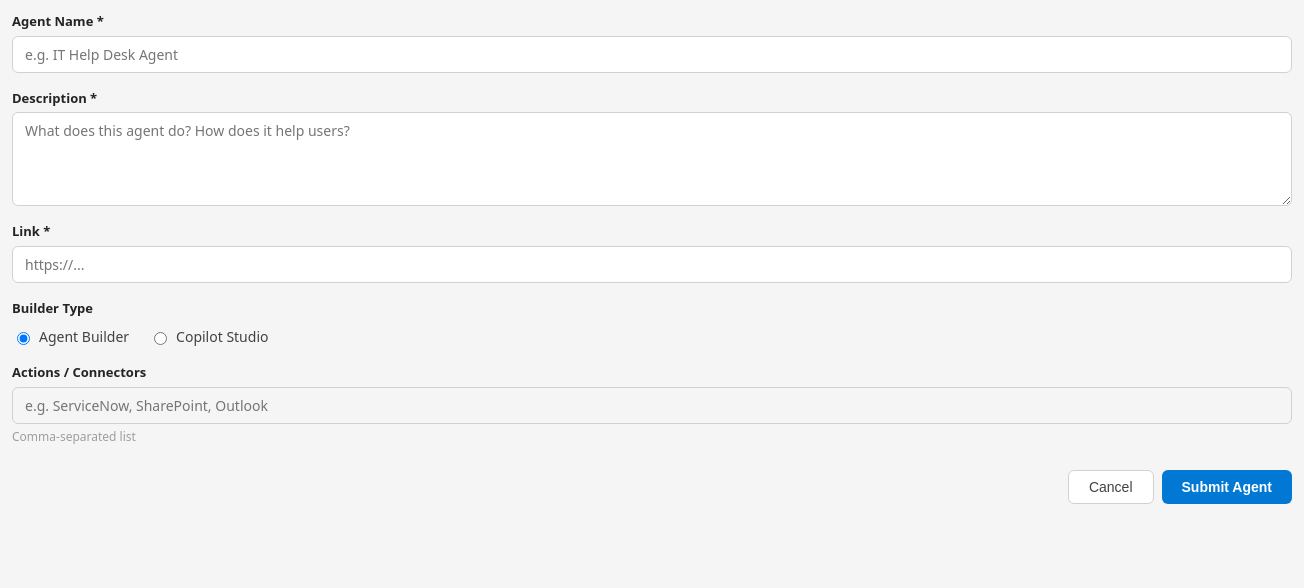
Test case: AgentForm › shows validation errors for empty required fields
This screenshot has width=1304, height=588.
Click the button "Submit Agent" at (1227, 486), box [1162,470,1292,504]
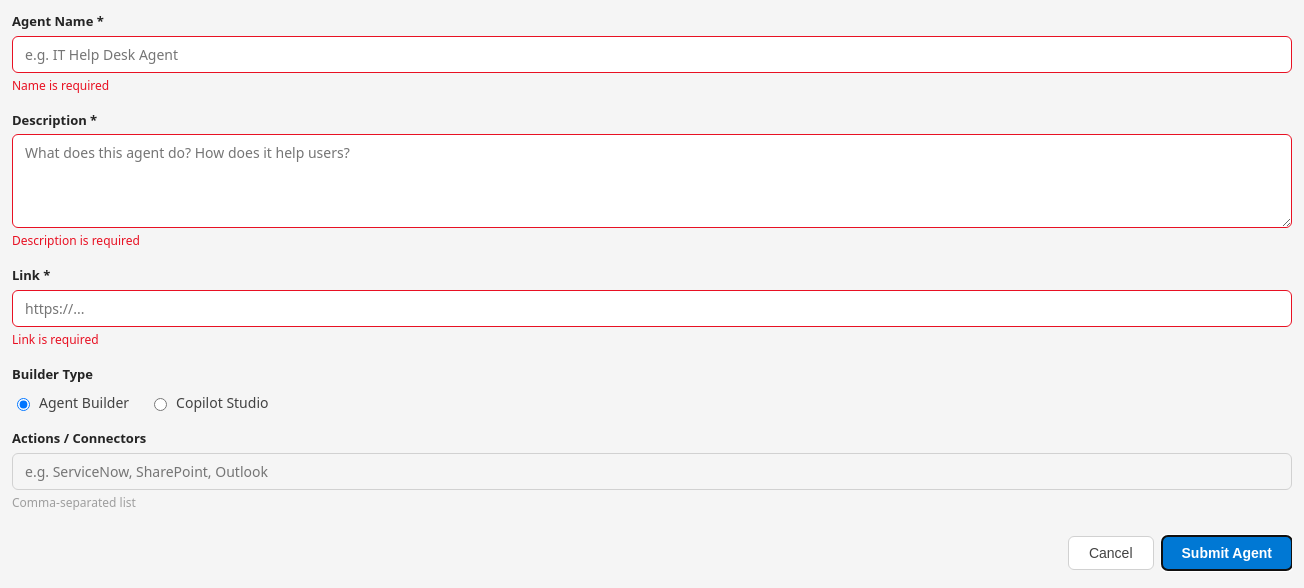
Result: the text "Name is required" is shown at [12,76,109,94]
Result: the text "Description is required" is shown at [12,232,140,249]
Result: the text "Link is required" is shown at [12,330,98,348]
